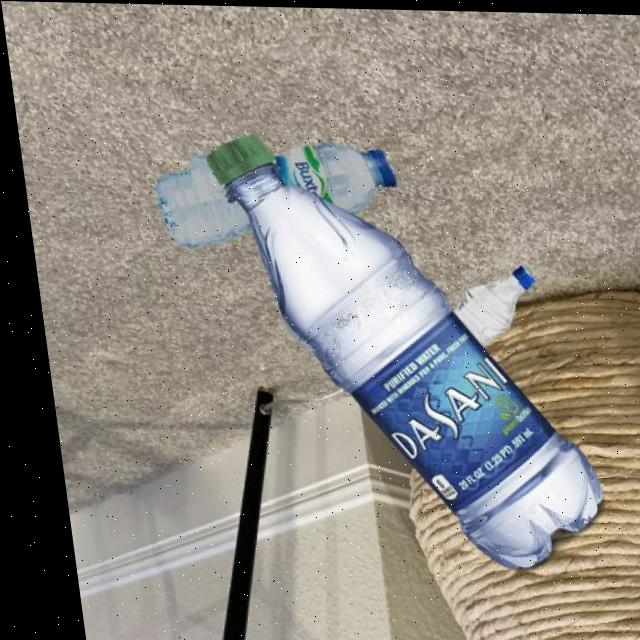plasticbottlecap: (181, 122, 291, 202), (341, 135, 403, 202), (486, 246, 535, 299)
